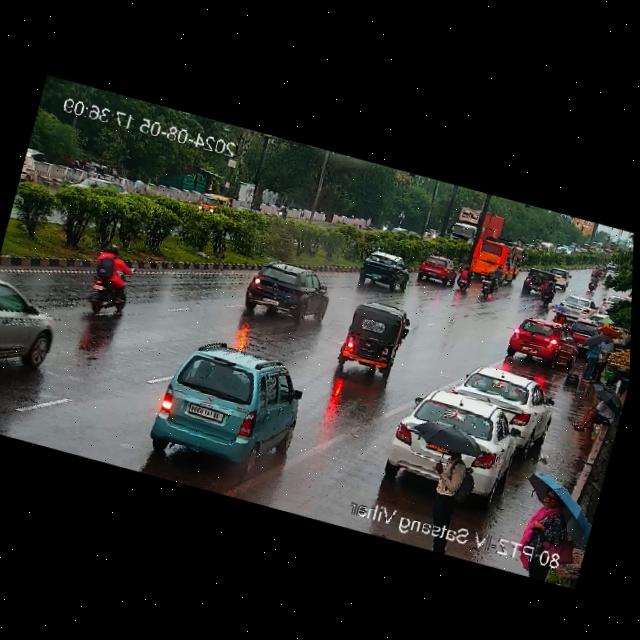bus: (461, 228, 527, 284)
car: (148, 332, 311, 481), (379, 381, 542, 513), (449, 361, 557, 440), (0, 277, 68, 386), (239, 254, 331, 326), (336, 298, 409, 376), (506, 312, 577, 367), (355, 245, 417, 294), (72, 172, 131, 205), (413, 253, 457, 288), (519, 265, 559, 300), (556, 291, 594, 325), (194, 187, 231, 221), (545, 264, 570, 288)
motorcycle: (75, 243, 144, 321), (472, 270, 502, 304), (448, 260, 474, 292)
person: (419, 433, 482, 521), (518, 483, 585, 559), (571, 390, 619, 437), (578, 332, 614, 384)
truck: (445, 204, 502, 248)
